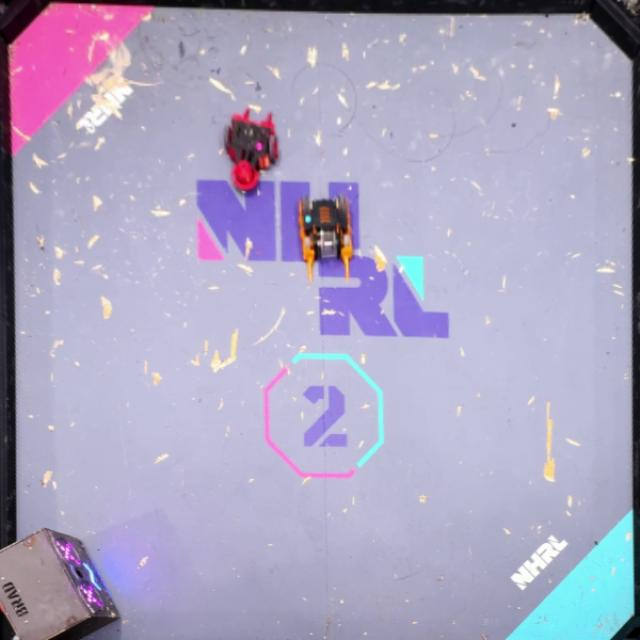housebot: (0, 526, 122, 640)
robot: (297, 192, 353, 284), (224, 105, 278, 191)
